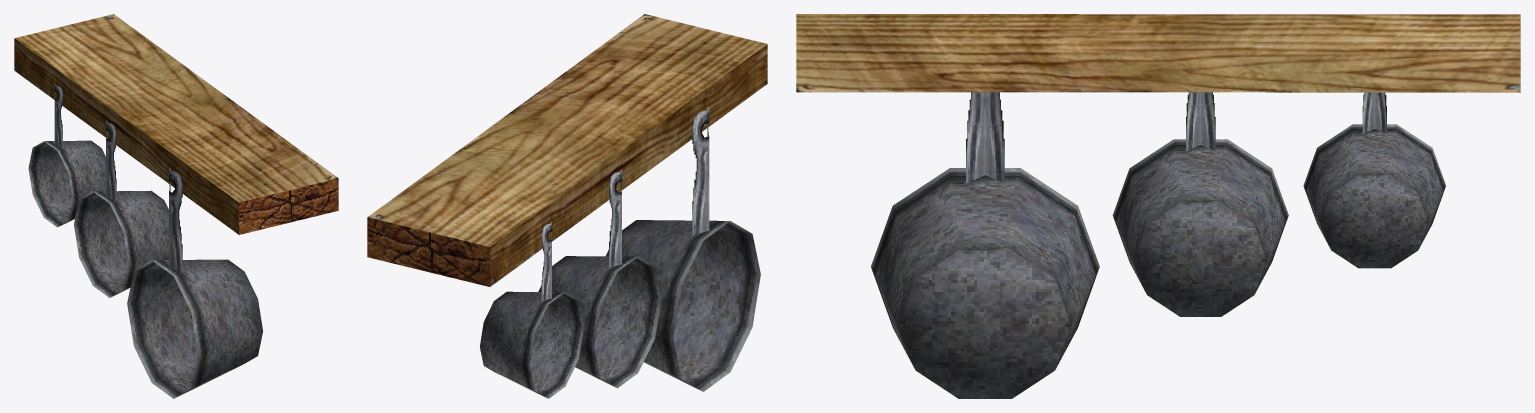
File: INST_LT_PANS.fbx
The picture shows the model from 3 angles, left to right: view 1: azimuth 30°, elevation 25°; view 2: azimuth 150°, elevation 25°; view 3: azimuth 270°, elevation 25°; orthographic projection. The views are drawn at different scales.
Parts seen in each view (by area): view 1: INST_LT_PANS; view 2: INST_LT_PANS; view 3: INST_LT_PANS.
Boxes of the visible parts, x1,y1,x2,y2 form: INST_LT_PANS: [14, 14, 338, 398]; INST_LT_PANS: [367, 14, 767, 398]; INST_LT_PANS: [796, 14, 1520, 398].
Size of the model in its own units: 2707 by 5003 by 8984.
4 materials, 4 textured.
